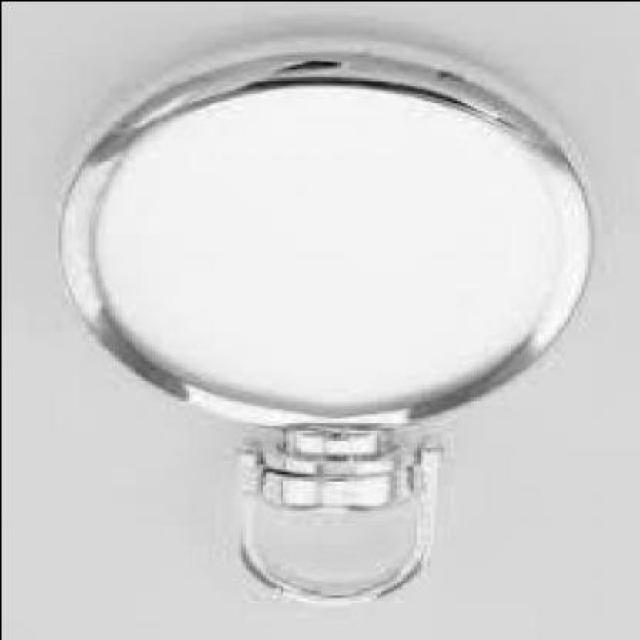METAL: (47, 44, 590, 431), (221, 437, 436, 606)
